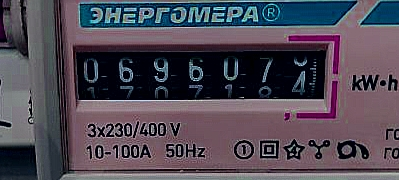0: (80, 53, 100, 83), (221, 51, 240, 81)
4: (288, 67, 307, 95)
6: (114, 52, 136, 82), (186, 53, 205, 81)
7: (256, 52, 273, 82)
9: (151, 53, 169, 83)
screen: (56, 26, 341, 117)
